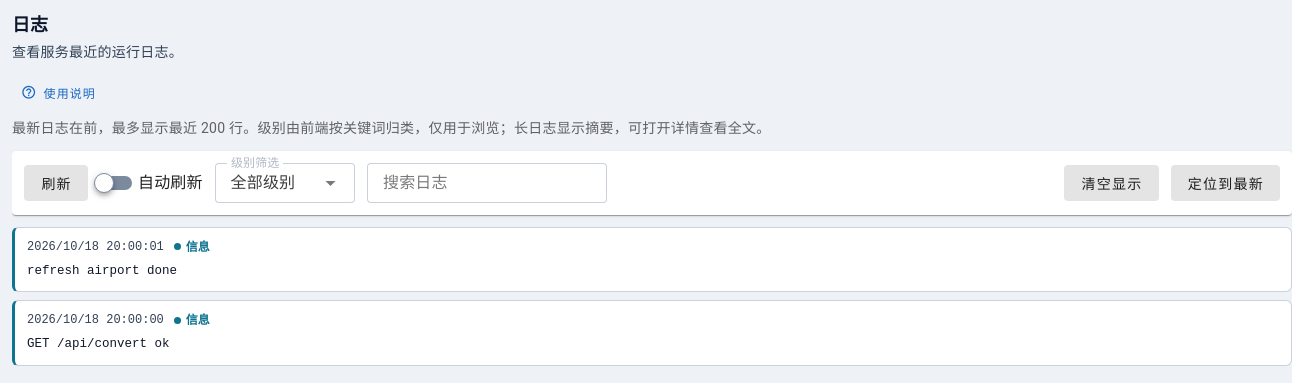
Test: LogsPage › 关键字过滤：无匹配时显示 log-filter-empty
Type "nothing-matches" into the field labelled "搜索日志".
click(481, 183); type("nothing-matches")  # box [367, 163, 595, 203]
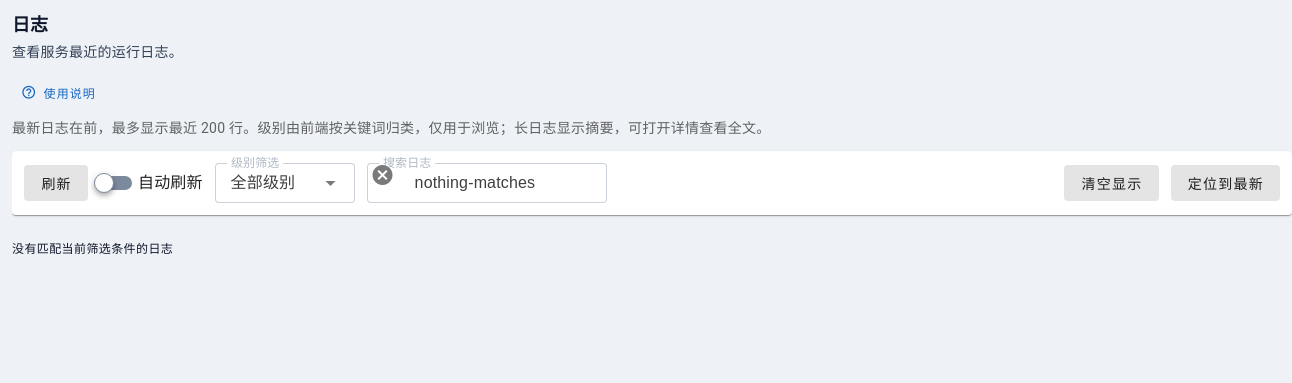
Expected: the text "没有匹配当前筛选条件的日志" is shown, [12, 242, 173, 256]
